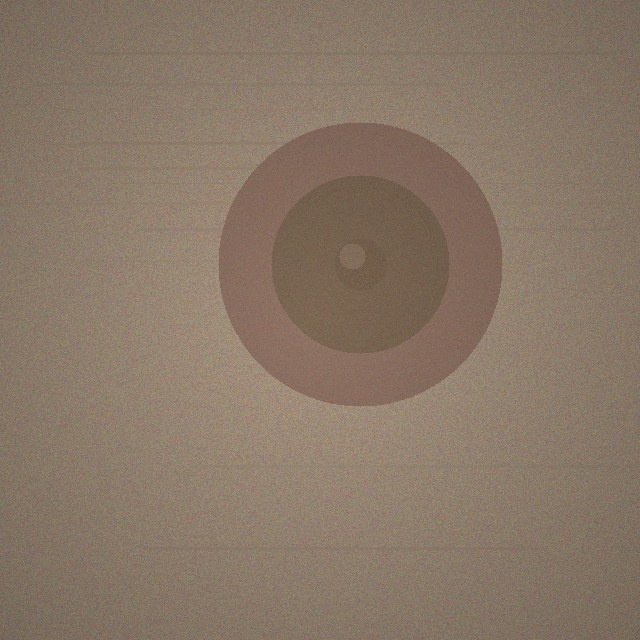good: (218, 122, 502, 406)
